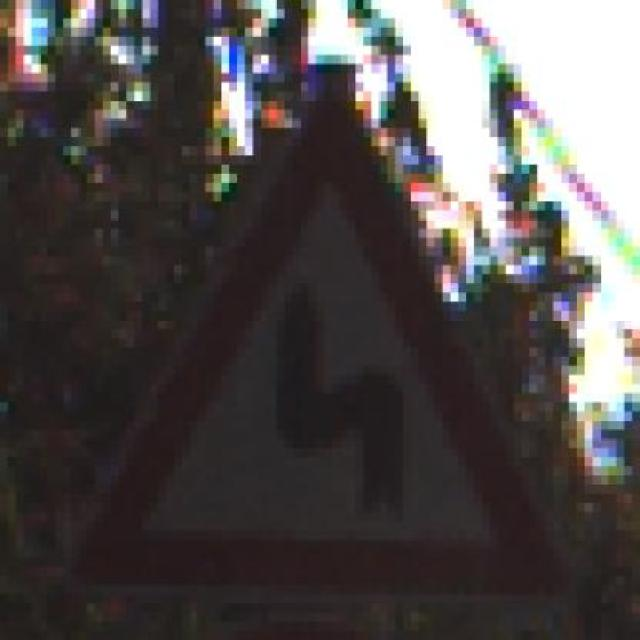Left Zig Zag Traffic: (56, 64, 570, 604)
